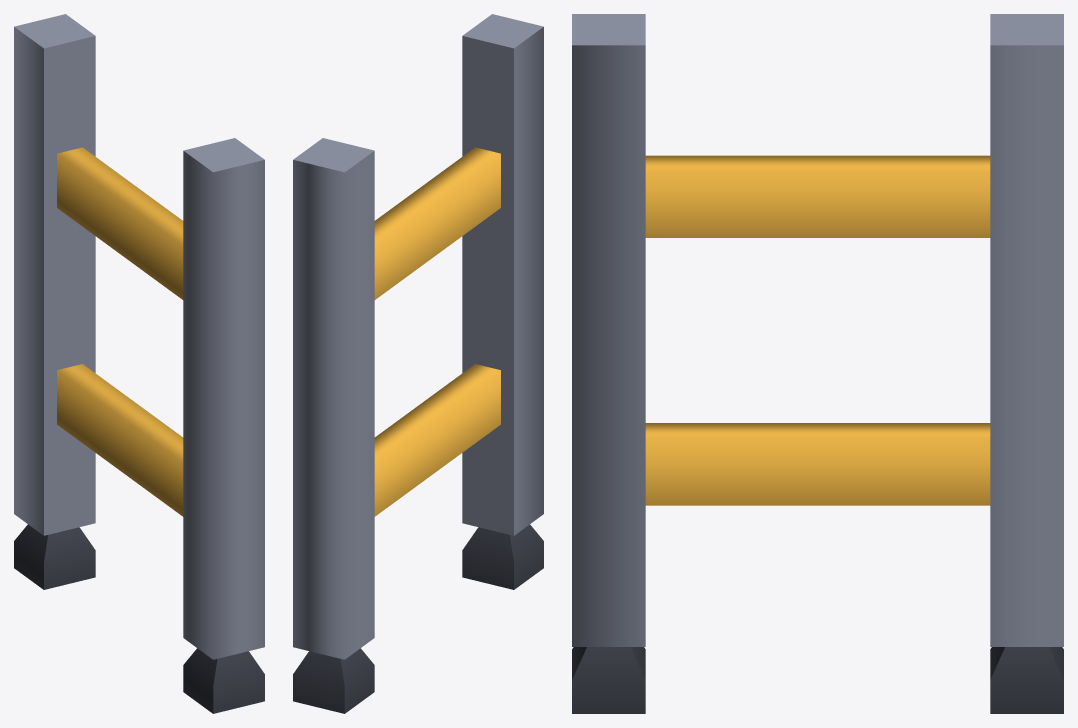
The model's file is StructureYellowHigh-transformed.glb.
The picture shows the model from 3 angles, left to right: view 1: azimuth 30°, elevation 25°; view 2: azimuth 150°, elevation 25°; view 3: azimuth 270°, elevation 25°; orthographic projection. The views are drawn at different scales.
Parts seen in each view (by area): view 1: structure-yellow-high; view 2: structure-yellow-high; view 3: structure-yellow-high.
Part boxes in pixels (x1,y1,x2,y2): structure-yellow-high: (14, 14, 264, 713); structure-yellow-high: (293, 14, 543, 713); structure-yellow-high: (572, 14, 1063, 713).
Bounding box in the file's own units: 0.15 × 1.5 × 1.
